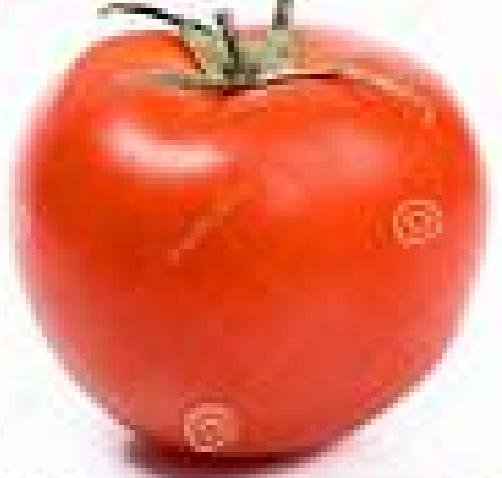tomato: (21, 19, 489, 466)
